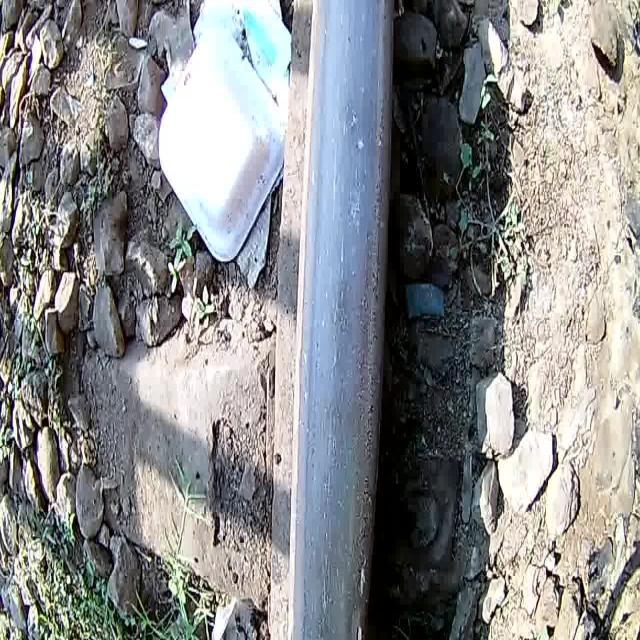Cracks: (321, 548, 334, 639)
Grooves: (301, 334, 319, 640)
Shellings: (351, 308, 379, 544), (358, 101, 388, 312)
Spallings: (353, 546, 370, 604), (353, 616, 365, 640)
